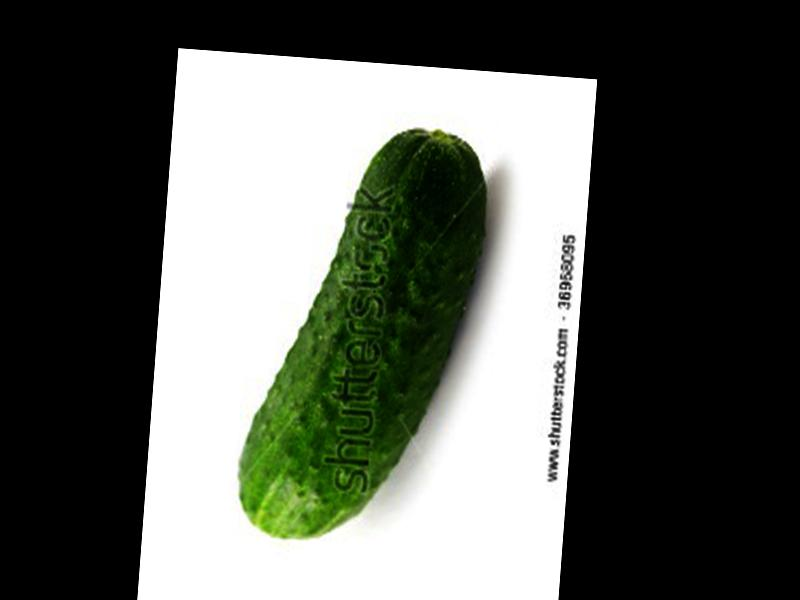Cucumber: (233, 118, 493, 551)
